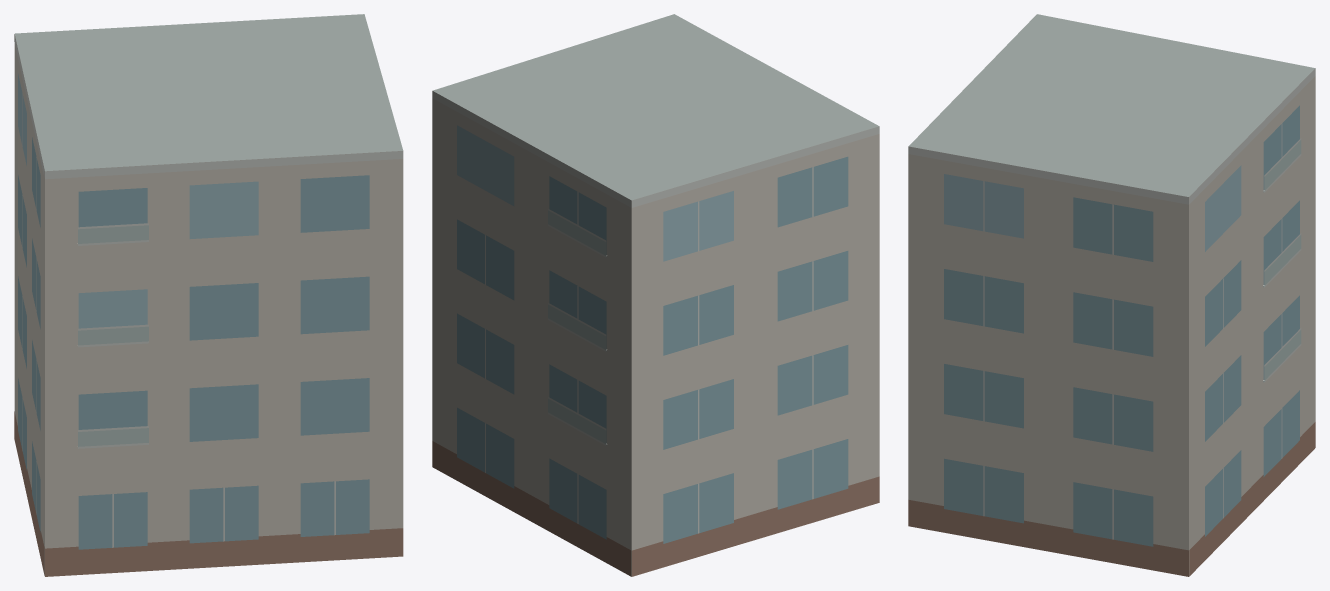
The model's file is survey-upis-33007493.glb.
The picture shows the model from 3 angles, left to right: view 1: azimuth 30°, elevation 25°; view 2: azimuth 150°, elevation 25°; view 3: azimuth 270°, elevation 25°; orthographic projection. The views are drawn at different scales.
Parts seen in each view (by area): view 1: survey-upis-33007493.tmp; view 2: survey-upis-33007493.tmp; view 3: survey-upis-33007493.tmp.
Boxes of the visible parts, left/top/right/bottom form: survey-upis-33007493.tmp: left=14, top=14, right=403, bottom=576; survey-upis-33007493.tmp: left=432, top=14, right=879, bottom=576; survey-upis-33007493.tmp: left=908, top=14, right=1315, bottom=576.
Bounding box in the file's own units: 12.63 × 12.2 × 11.86.
